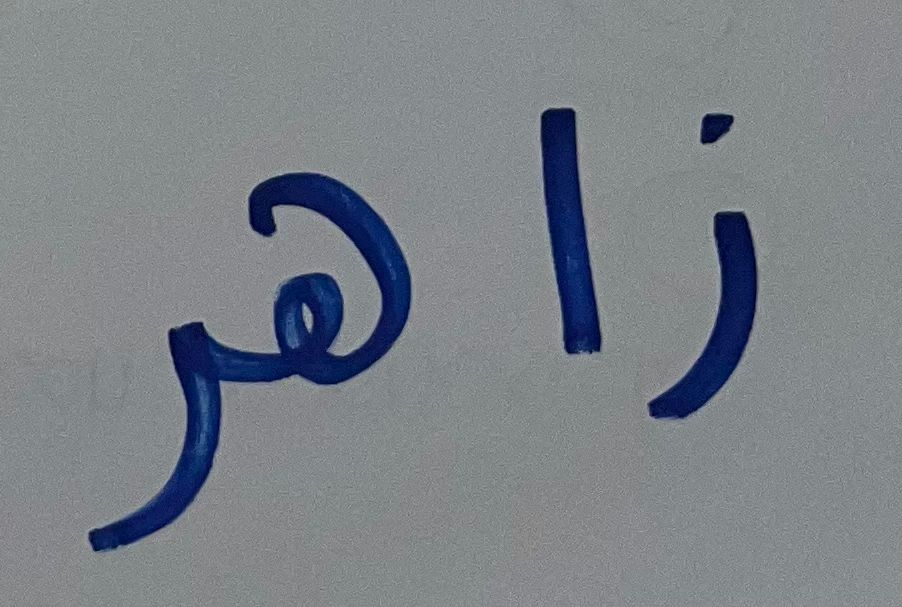alef: (490, 67, 622, 379)
heh: (235, 105, 430, 396)
noon: (645, 87, 775, 435)
reh: (52, 278, 233, 561)
